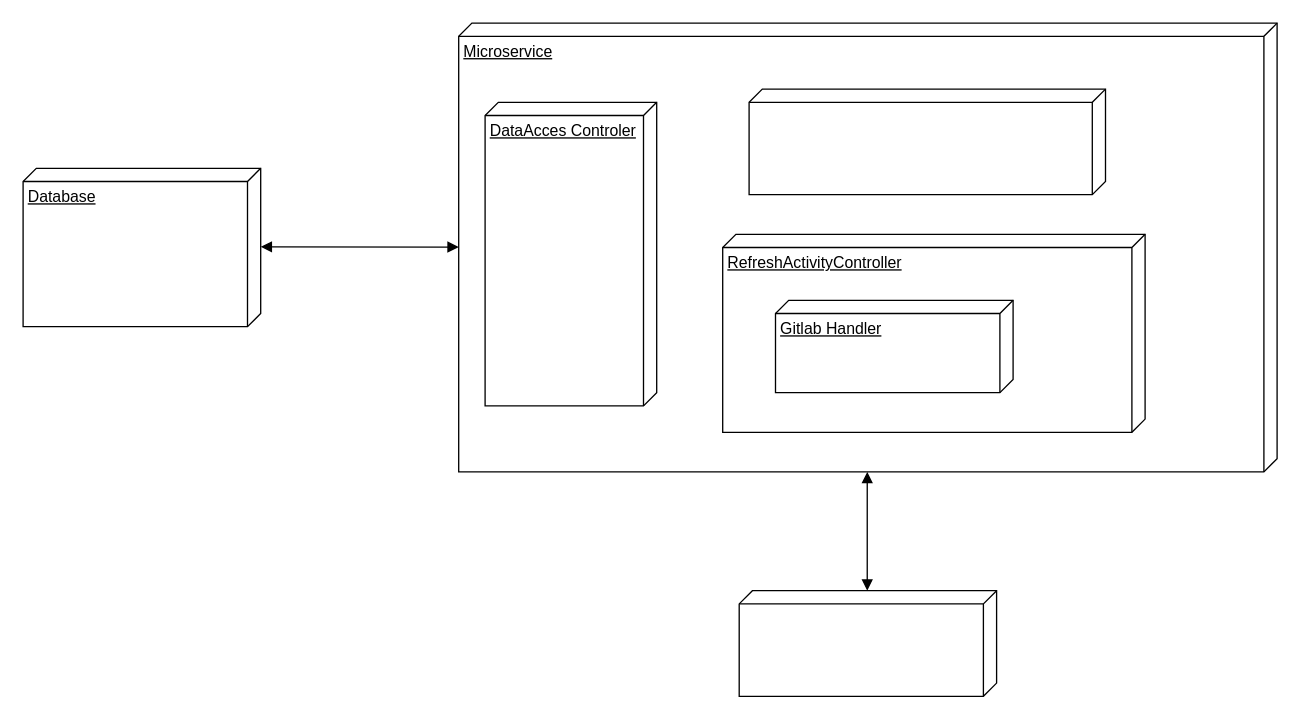
Some shapes in this 1300 by 719 pixel diagram are drawn without their labels. The centre of each missing label's shape, as x and y in pixels:
"Client" goes at point (867, 642).
"Repository Structure" goes at point (927, 141).
